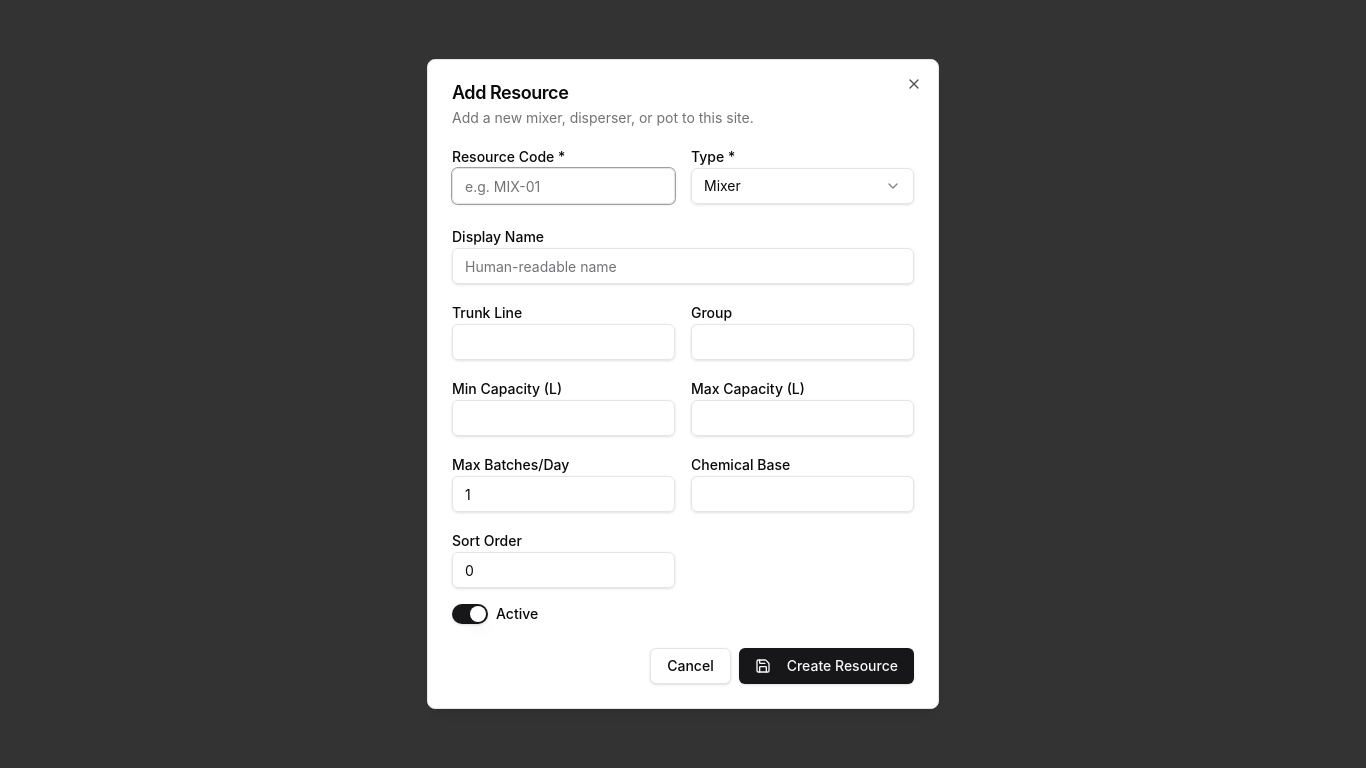
Test: ResourceForm › shows validator errors and blocks submit on invalid payload
This screenshot has width=1366, height=768.
Type "INVALID SPACE" into the field labelled "Resource Code *". click: (564,186)
box: [452,168,675,204]
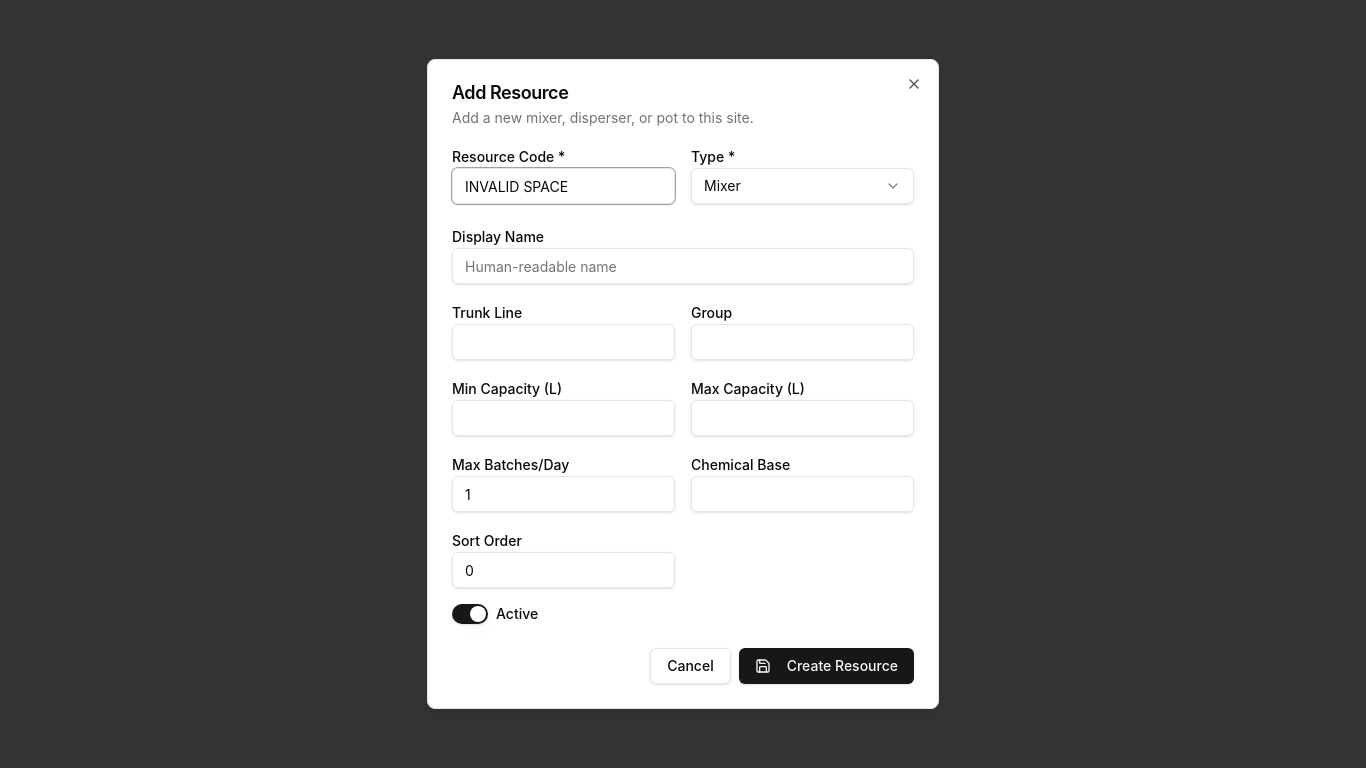
Click the button "Create Resource". click: (826,666)
box: [739,648,914,684]
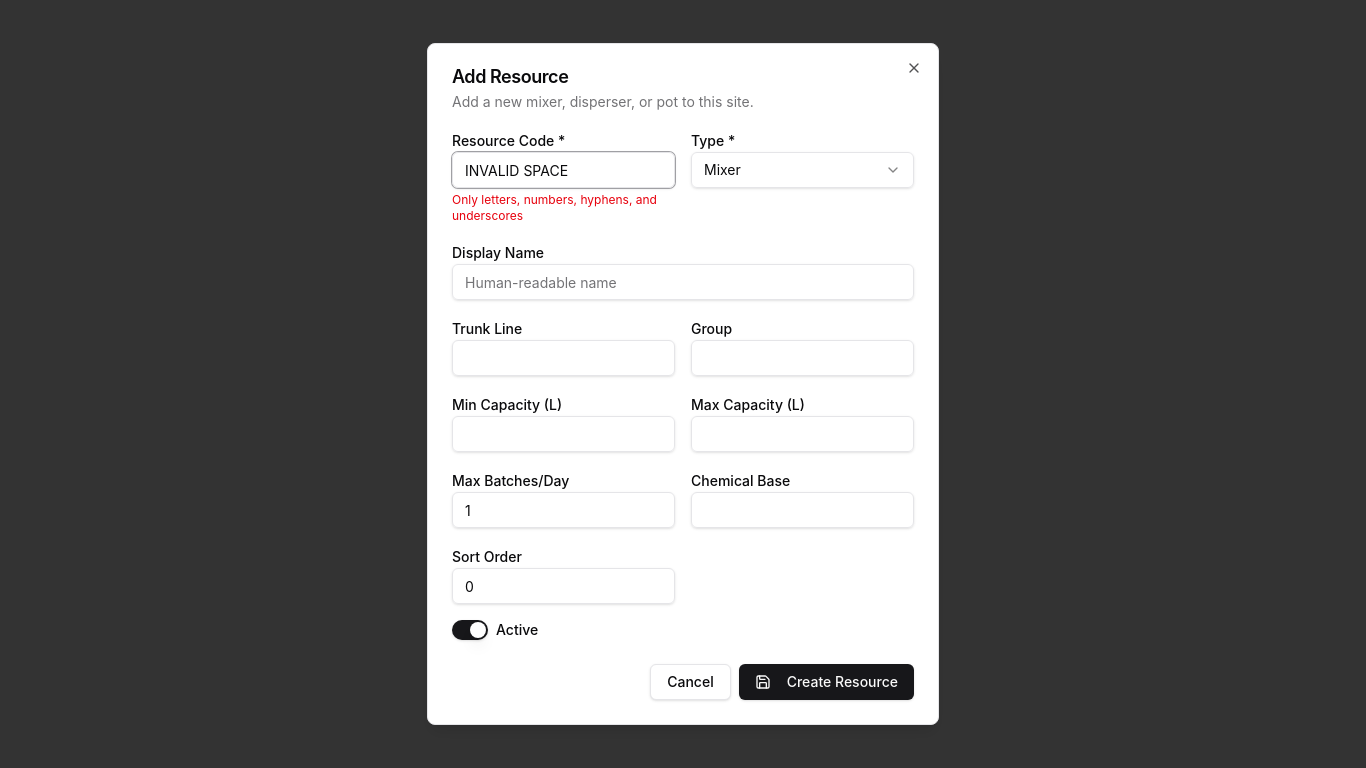
Check: the text "Only letters, numbers, hyphens, and underscores" is shown, box [452,192,675,224]
